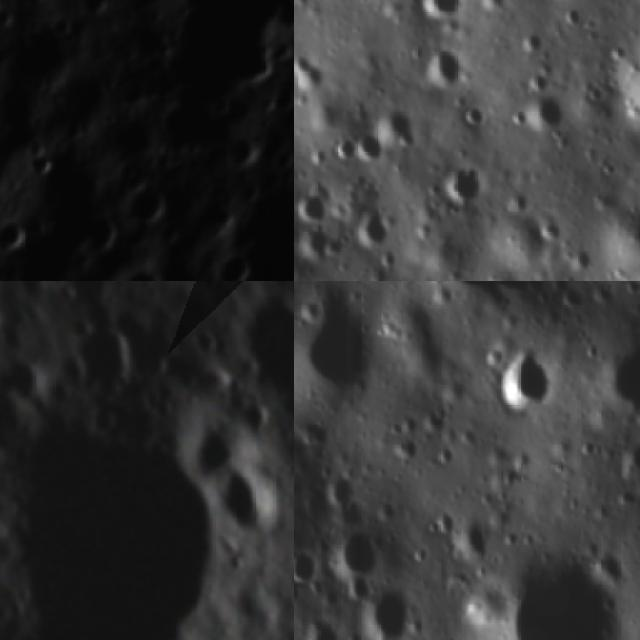crater: (0, 348, 294, 640), (216, 281, 294, 422), (48, 302, 151, 408), (503, 557, 629, 640), (294, 283, 376, 406), (213, 451, 294, 545), (174, 397, 261, 484), (488, 346, 558, 418), (0, 332, 63, 408), (351, 580, 414, 640), (327, 521, 382, 576), (408, 39, 466, 90), (0, 372, 41, 443), (124, 177, 178, 228), (364, 101, 416, 153), (440, 161, 488, 214), (519, 88, 570, 136), (82, 392, 133, 440), (294, 222, 338, 273), (354, 203, 394, 255), (78, 212, 122, 256), (294, 47, 331, 98), (131, 17, 172, 63), (294, 181, 334, 227), (344, 124, 385, 168), (211, 245, 258, 281), (24, 138, 64, 179), (297, 609, 348, 640), (59, 281, 121, 306), (294, 544, 320, 599), (0, 214, 33, 256), (412, 0, 466, 24), (114, 262, 176, 281), (267, 0, 294, 42), (454, 100, 489, 129), (569, 240, 596, 277), (617, 437, 640, 480), (363, 252, 394, 281), (518, 28, 544, 56), (502, 186, 528, 214), (557, 2, 586, 26), (372, 246, 401, 268), (541, 217, 565, 243), (582, 79, 604, 104), (479, 0, 506, 16)
